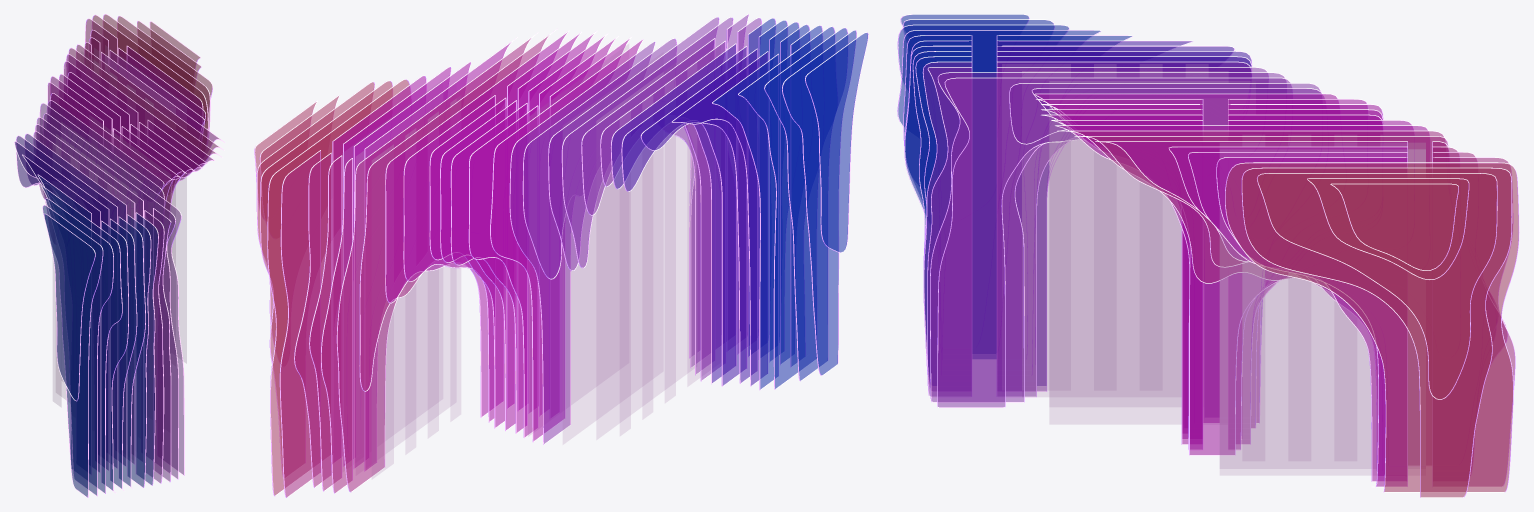
File: projections.glb
The picture shows the model from 3 angles, left to right: view 1: azimuth 30°, elevation 25°; view 2: azimuth 150°, elevation 25°; view 3: azimuth 270°, elevation 25°; orthographic projection. The views are drawn at different scales.
Visible parts, largest first — view 1: material13, material13.002, Plane.004; view 2: material13, Plane.004, material13.002; view 3: material13, Plane.004, material13.002.
Part boxes in pixels (left/top/right/bottom): material13: left=15, top=14, right=218, bottom=496; material13.002: left=14, top=14, right=225, bottom=497; Plane.004: left=53, top=45, right=186, bottom=406; material13: left=255, top=15, right=867, bottom=496; Plane.004: left=343, top=44, right=699, bottom=478; material13.002: left=254, top=14, right=868, bottom=497; material13: left=898, top=14, right=1518, bottom=497; Plane.004: left=1002, top=64, right=1425, bottom=474; material13.002: left=897, top=14, right=1519, bottom=497.
Size of the model in its own units: 3.21 by 2.91 by 4.96.
